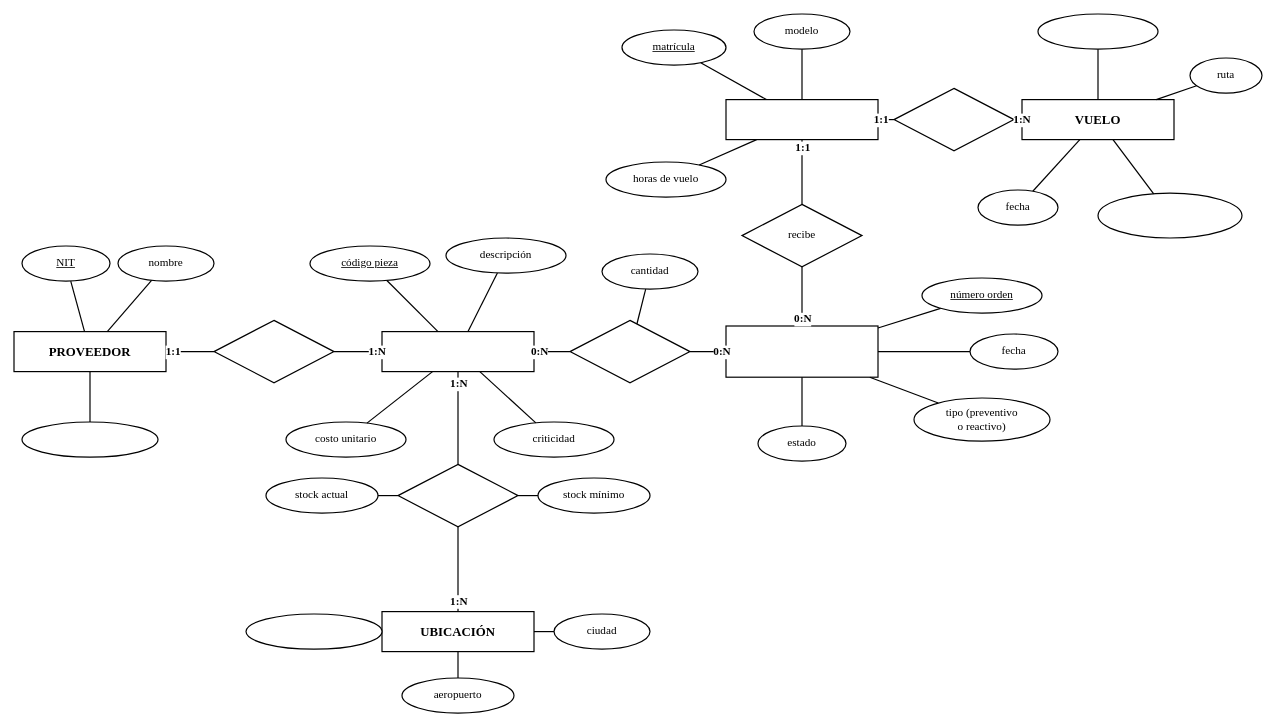
Image size: 1277x728. Some labels were removed from this diagram. Here are the shapes that lost their labels. From the top down, the centre of each, then its label:
the point at 1097,31: número vuelo
the point at 801,119: AERONAVE
the point at 953,119: opera
the point at 1169,215: estado (a tiempo, retrasado, cancelado)
the point at 273,351: suministra
the point at 457,351: PIEZA
the point at 629,351: consume
the point at 801,351: ORDEN DE MANTENIMIENTO
the point at 89,439: tiempo de entrega
the point at 457,495: se almacena en
the point at 313,631: código ubicación
